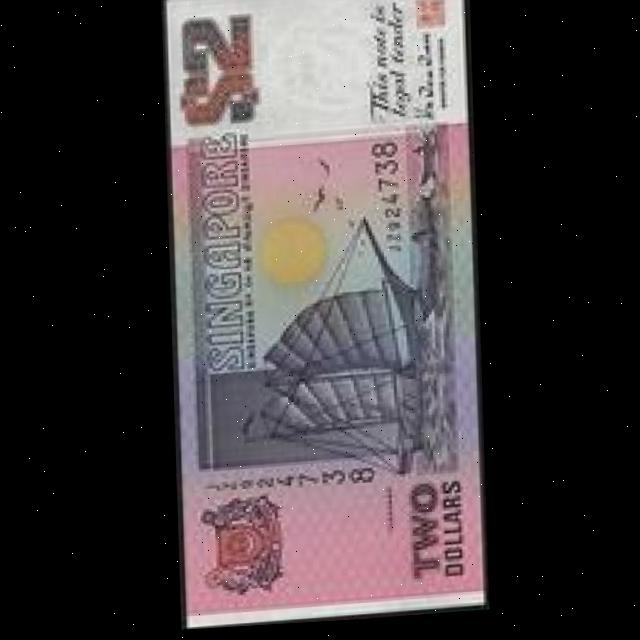banknote: (157, 0, 483, 633), (385, 474, 473, 587), (173, 16, 260, 79)
